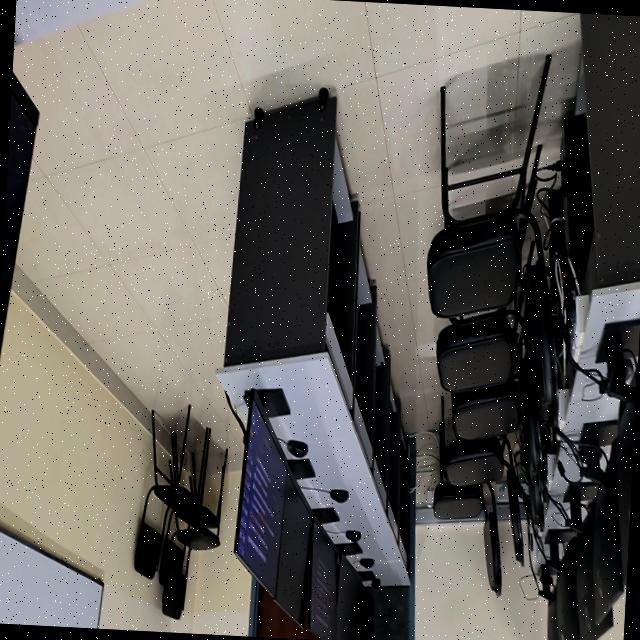Chair: (427, 55, 555, 358), (436, 311, 548, 528), (134, 412, 201, 579), (162, 452, 227, 620), (443, 437, 523, 565), (432, 482, 501, 596), (451, 380, 521, 441)
Monitor: (0, 72, 38, 355), (235, 391, 288, 593), (270, 460, 312, 626), (592, 445, 623, 620), (615, 377, 637, 582), (576, 521, 612, 640), (307, 516, 338, 640), (336, 555, 364, 640), (556, 538, 579, 640), (358, 588, 374, 640), (547, 601, 558, 640)
Mouse: (287, 441, 308, 458), (330, 490, 348, 504), (345, 531, 361, 542), (359, 559, 374, 569), (371, 579, 380, 588)
